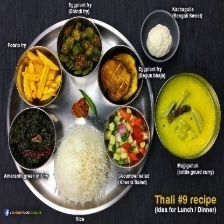rice: (52, 122, 110, 207)
